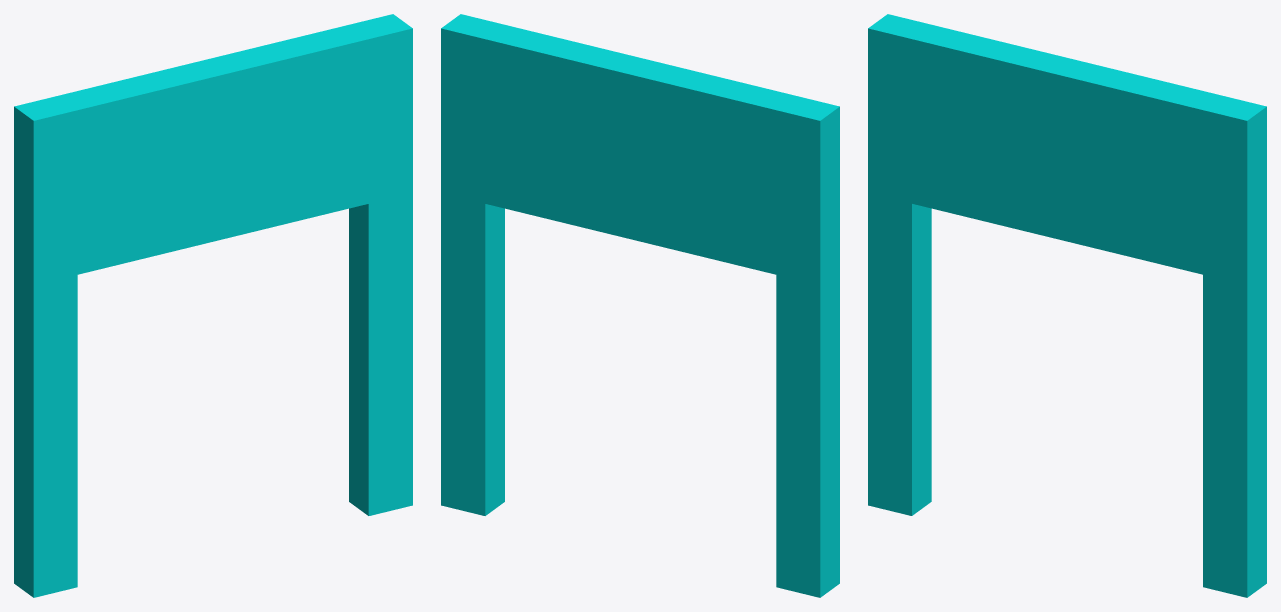
Rendered from SM_Bld_Wall_Door_Double_01_Collision.fbx.
The picture shows the model from 3 angles, left to right: view 1: azimuth 30°, elevation 25°; view 2: azimuth 150°, elevation 25°; view 3: azimuth 330°, elevation 25°; orthographic projection.
Visible parts, largest first — view 1: SM_Bld_Wall_Door_Double_01_Collision; view 2: SM_Bld_Wall_Door_Double_01_Collision; view 3: SM_Bld_Wall_Door_Double_01_Collision.
Part boxes in pixels (x1=…): SM_Bld_Wall_Door_Double_01_Collision: x1=14, y1=14, x2=412, y2=597; SM_Bld_Wall_Door_Double_01_Collision: x1=441, y1=14, x2=839, y2=597; SM_Bld_Wall_Door_Double_01_Collision: x1=868, y1=14, x2=1266, y2=597.
Bounding box in the file's own units: 250 × 301 × 22.5.
